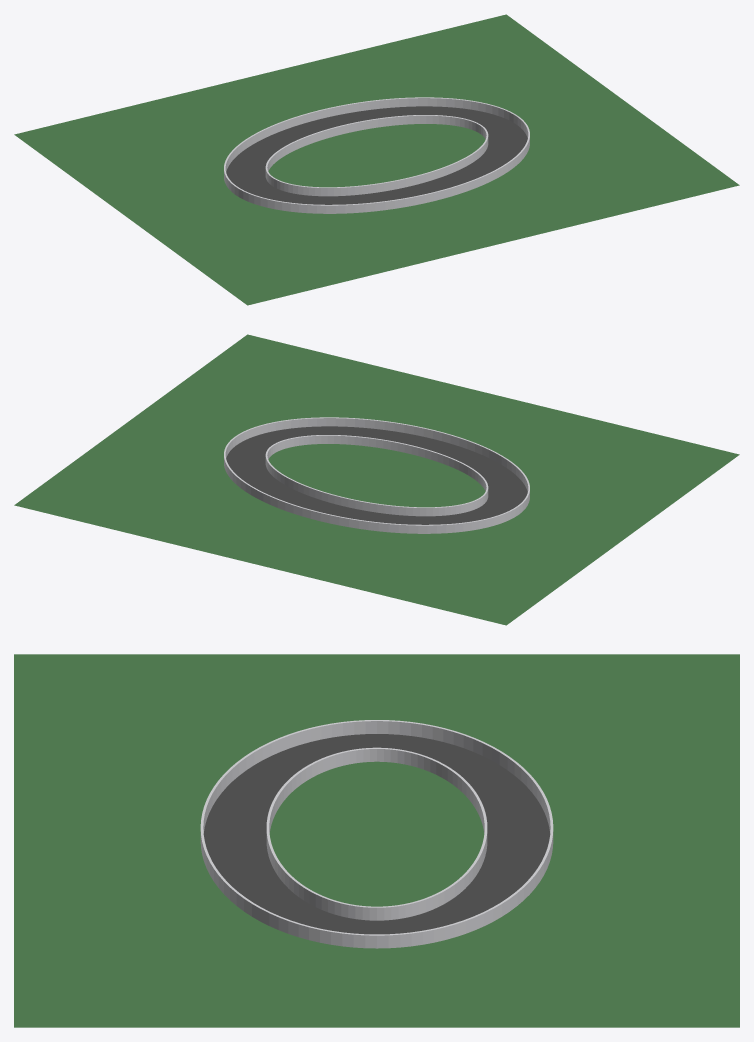
Rendered from racetrack_proto.fbx.
3 views of the same model, one above another, from view 1: azimuth 30°, elevation 25°; view 2: azimuth 150°, elevation 25°; view 3: azimuth 270°, elevation 25° (orthographic). The views are drawn at different scales.
Parts seen in each view (by area): view 1: Ground, Road, OuterWall, InnerWall; view 2: Ground, Road, OuterWall, InnerWall; view 3: Ground, Road, OuterWall, InnerWall.
Part boxes in pixels (left/top/right/bottom): Ground: left=14, top=14, right=739, bottom=305; Road: left=226, top=106, right=527, bottom=204; OuterWall: left=224, top=97, right=529, bottom=213; InnerWall: left=265, top=115, right=488, bottom=196; Ground: left=14, top=334, right=739, bottom=625; Road: left=226, top=426, right=527, bottom=524; OuterWall: left=224, top=417, right=529, bottom=533; InnerWall: left=265, top=435, right=488, bottom=516; Ground: left=14, top=654, right=739, bottom=1027; Road: left=203, top=734, right=550, bottom=934; OuterWall: left=200, top=720, right=553, bottom=948; InnerWall: left=266, top=747, right=487, bottom=920.
Size of the model in its own units: 11200 by 185 by 9200.
